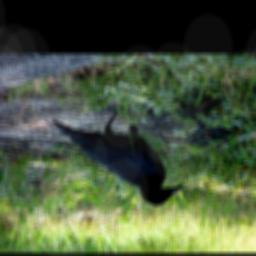Crow: (44, 106, 184, 207)
